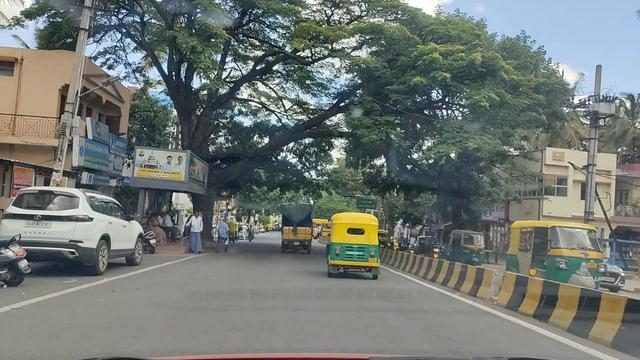HMV: (282, 203, 312, 254)
LMV: (330, 216, 378, 272)
